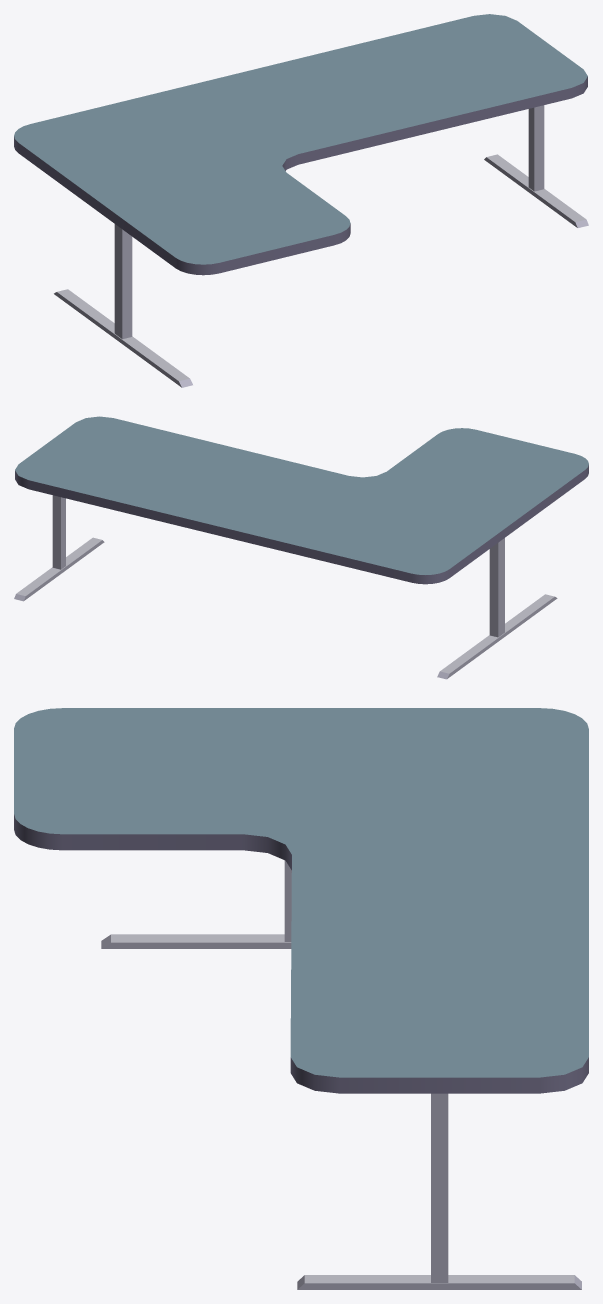
File: table_2.glb
The picture shows the model from 3 angles, top to bottom: view 1: azimuth 30°, elevation 25°; view 2: azimuth 150°, elevation 25°; view 3: azimuth 270°, elevation 25°; orthographic projection. The views are drawn at different scales.
Parts seen in each view (by area): view 1: table_2; view 2: table_2; view 3: table_2.
Boxes of the visible parts, <box> form: table_2: <box>14,14,588,387</box>; table_2: <box>14,416,588,679</box>; table_2: <box>14,708,588,1289</box>.
Size of the model in its own units: 2.97 by 0.8181 by 1.95.
